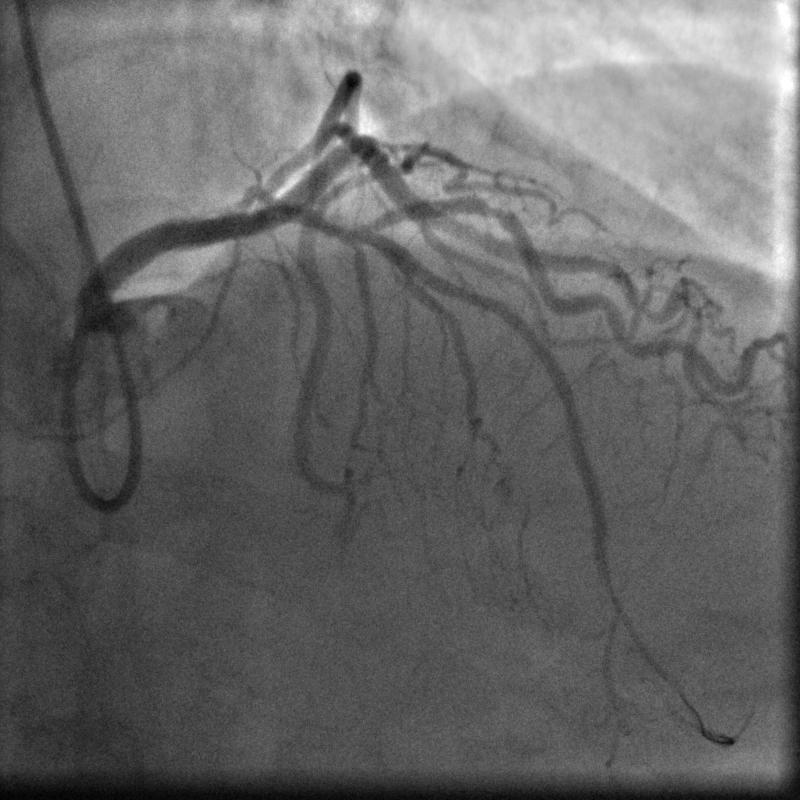Stenosis: (473, 192, 515, 233)
